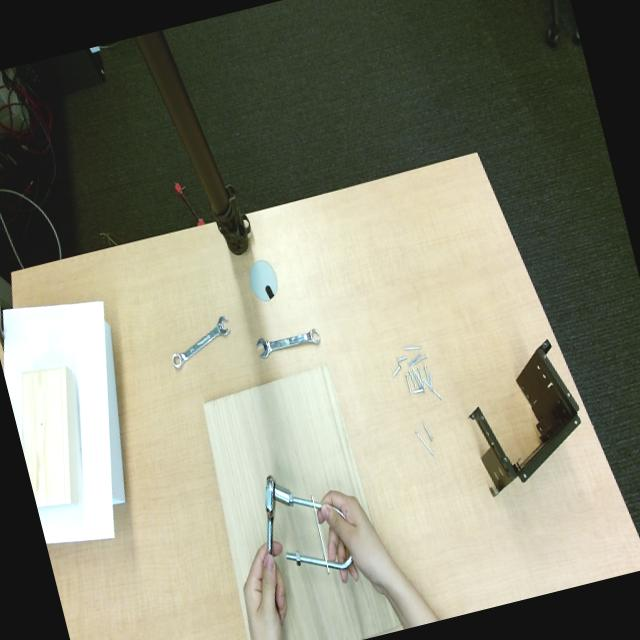wrench: (171, 316, 230, 369), (257, 328, 320, 359), (265, 475, 276, 554)
